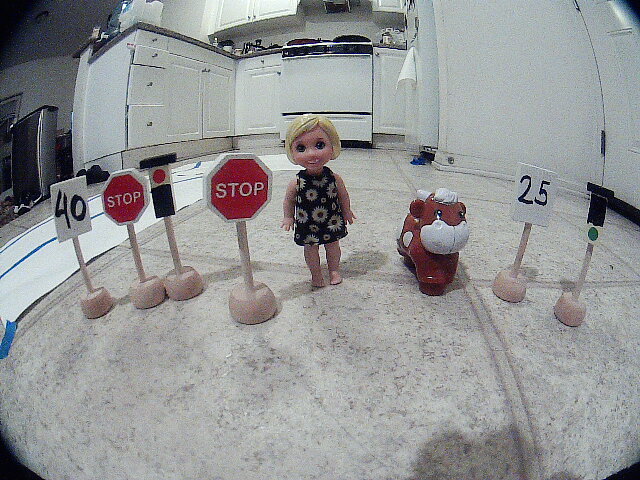Cow: (391, 178, 483, 325)
Green Traffic Light: (577, 175, 626, 280)
Person: (265, 117, 386, 294)
Red Traffic Light: (139, 146, 191, 216)
Speed Limit 25: (508, 154, 570, 244)
Speed Limit 40: (39, 173, 108, 241)
Stop Sign: (195, 153, 284, 234), (97, 166, 157, 232)
